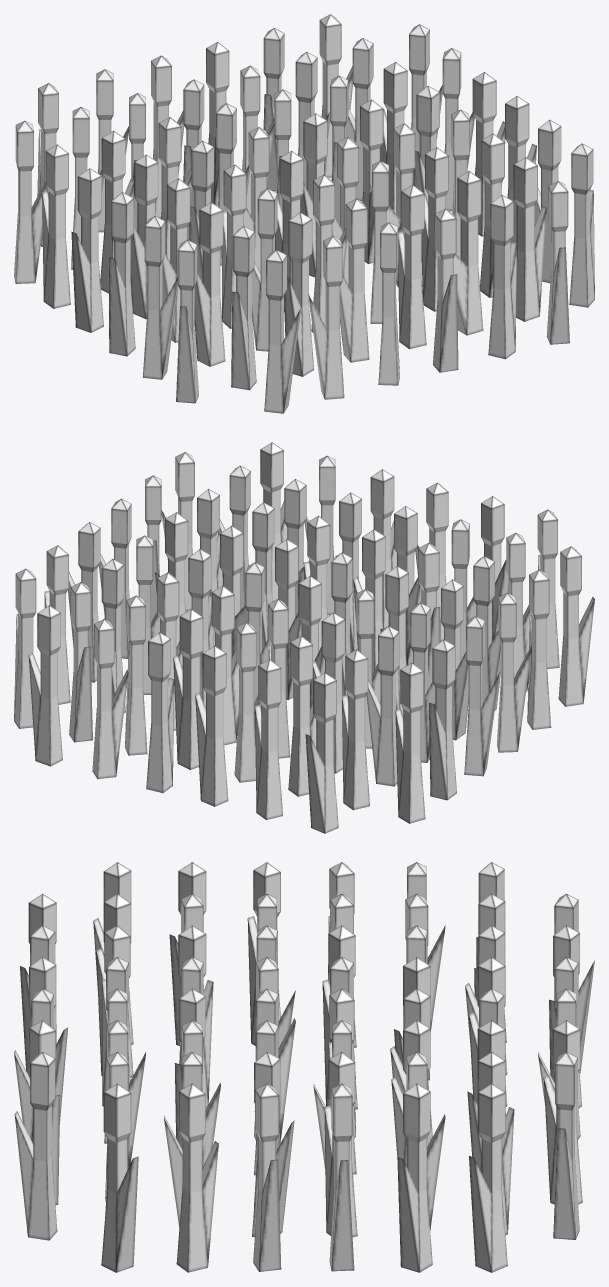
File: Crops-01.fbx
3 renders of one model, top to bottom at view 1: azimuth 30°, elevation 25°; view 2: azimuth 150°, elevation 25°; view 3: azimuth 270°, elevation 25°, orthographic. The views are drawn at different scales.
Visible parts, largest first — view 1: Crops_01; view 2: Crops_01; view 3: Crops_01.
Boxes of the visible parts, x1,y1,x2,y2 form: Crops_01: (14,14,594,413); Crops_01: (14,442,594,833); Crops_01: (14,862,594,1272).
Size of the model in its own units: 0.9483 by 0.3293 by 0.949.
